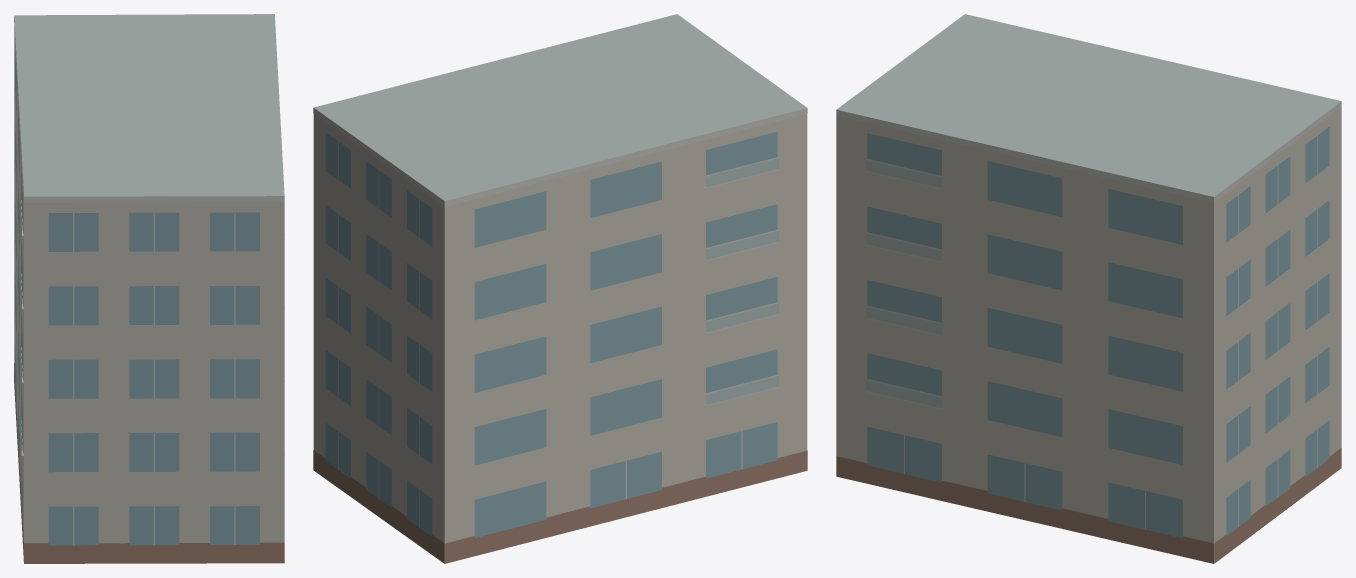
File: survey-upis-32876032.glb
3 renders of one model, left to right at view 1: azimuth 30°, elevation 25°; view 2: azimuth 150°, elevation 25°; view 3: azimuth 270°, elevation 25°, orthographic.
Parts seen in each view (by area): view 1: survey-upis-32876032.tmp; view 2: survey-upis-32876032.tmp; view 3: survey-upis-32876032.tmp.
Boxes of the visible parts, x1,y1,x2,y2 form: survey-upis-32876032.tmp: (14,14,284,563); survey-upis-32876032.tmp: (313,14,807,563); survey-upis-32876032.tmp: (836,14,1341,563).
Bounding box in the file's own units: 16.43 × 15.35 × 19.17.
